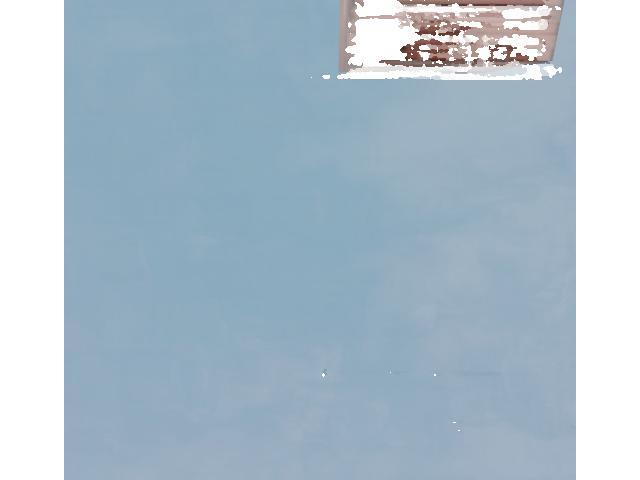container4: (328, 1, 571, 75)
